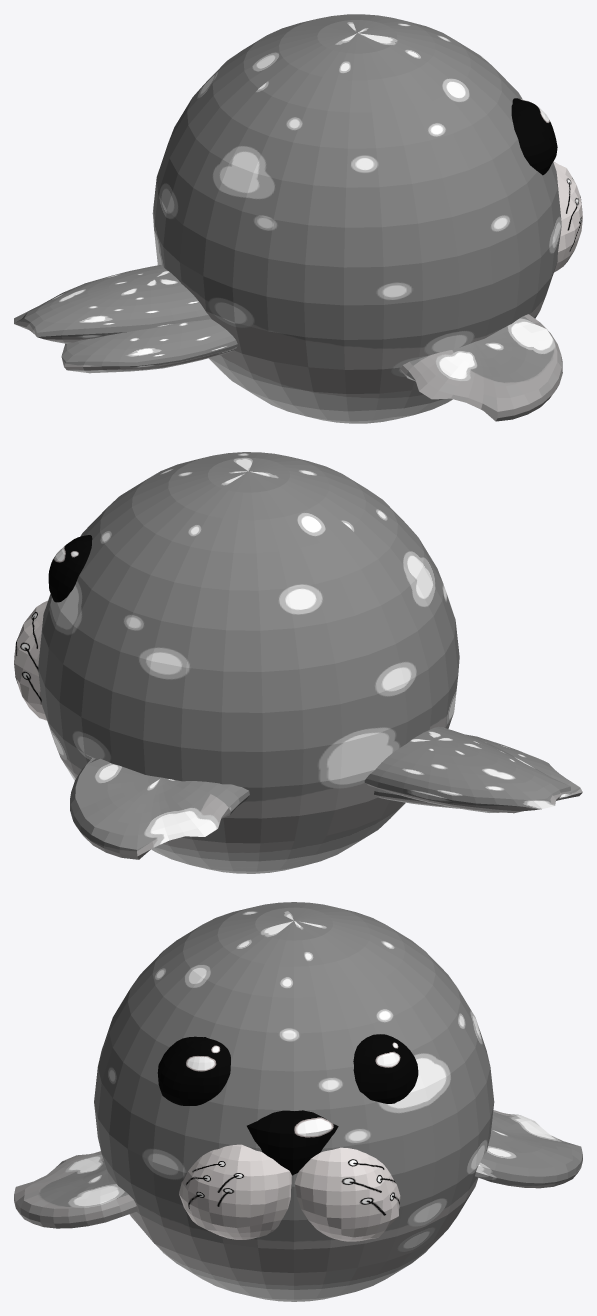
Rendered from SealBall.fbx.
The picture shows the model from 3 angles, top to bottom: view 1: azimuth 30°, elevation 25°; view 2: azimuth 150°, elevation 25°; view 3: azimuth 270°, elevation 25°; orthographic projection. The views are drawn at different scales.
Visible parts, largest first — view 1: Body, Fin, Tail, TailBot, EyeLeft, MouthLeft; view 2: Body, Fin.001, Tail, MouthRight, EyeRight, TailBot; view 3: Body, MouthLeft, MouthRight, Fin, Fin.001, EyeLeft, Nose, EyeRight.
Boxes of the visible parts, left/top/right/bottom form: Body: left=152, top=14, right=561, bottom=423; Fin: left=400, top=314, right=562, bottom=421; Tail: left=14, top=265, right=211, bottom=343; TailBot: left=61, top=319, right=237, bottom=373; EyeLeft: left=511, top=98, right=557, bottom=175; MouthLeft: left=553, top=161, right=582, bottom=272; Body: left=38, top=452, right=459, bottom=873; Fin.001: left=70, top=758, right=249, bottom=859; Tail: left=364, top=726, right=570, bottom=813; MouthRight: left=14, top=600, right=47, bottom=720; EyeRight: left=48, top=535, right=92, bottom=602; TailBot: left=374, top=734, right=582, bottom=808; Body: left=94, top=902, right=494, bottom=1301; MouthLeft: left=179, top=1144, right=291, bottom=1239; MouthRight: left=294, top=1147, right=400, bottom=1241; Fin: left=14, top=1151, right=137, bottom=1228; Fin.001: left=475, top=1110, right=582, bottom=1188; EyeLeft: left=157, top=1036, right=230, bottom=1105; Nose: left=247, top=1110, right=338, bottom=1175; EyeRight: left=353, top=1034, right=418, bottom=1103.
Bounding box in the file's own units: 290 × 200 × 284.
3 materials, 3 textured.
